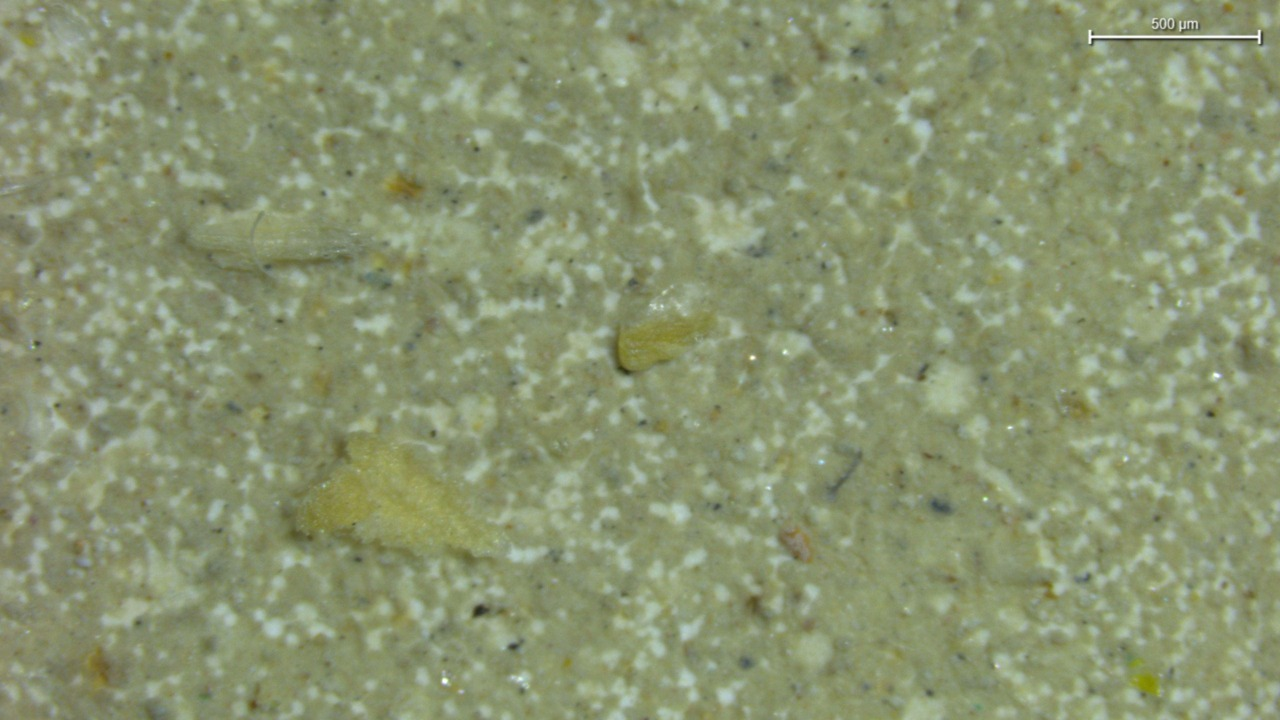microplastic_fragment: (297, 436, 503, 554), (190, 212, 368, 273), (617, 310, 717, 371)
